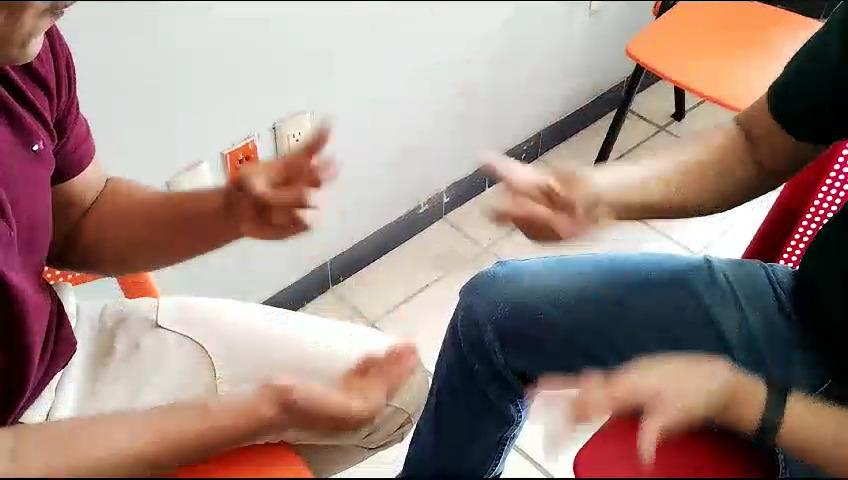Scissor: (220, 108, 360, 253), (468, 139, 611, 247)
